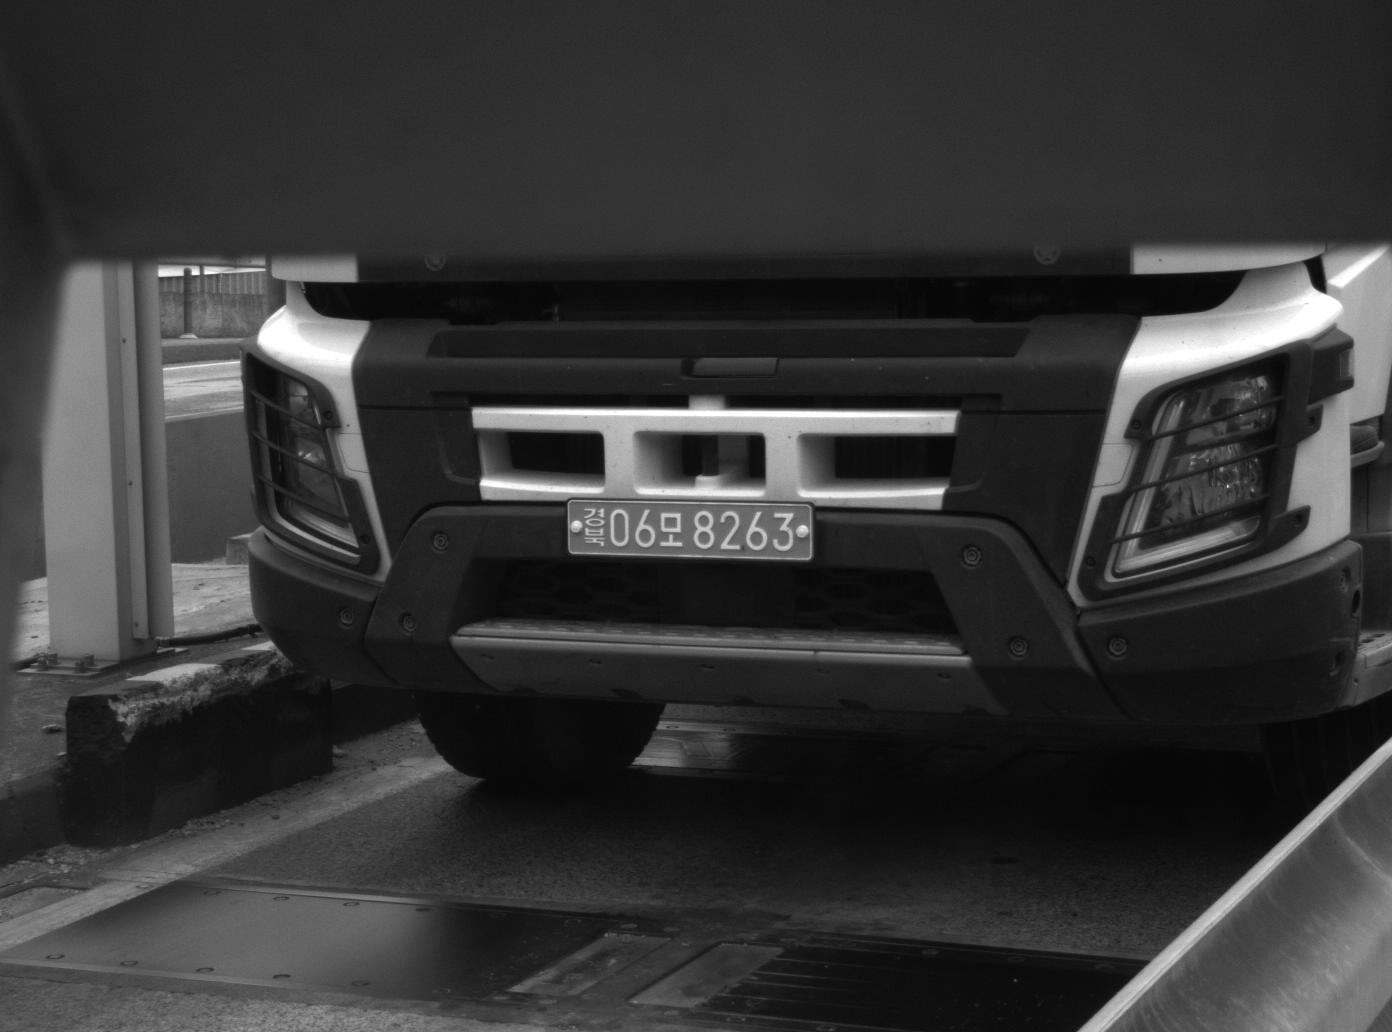car: (238, 256, 1392, 793)
plate: (567, 500, 813, 559)
